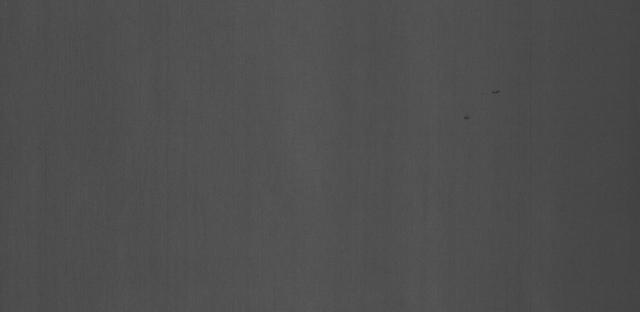inclusion: (452, 98, 478, 134), (484, 84, 512, 106)
